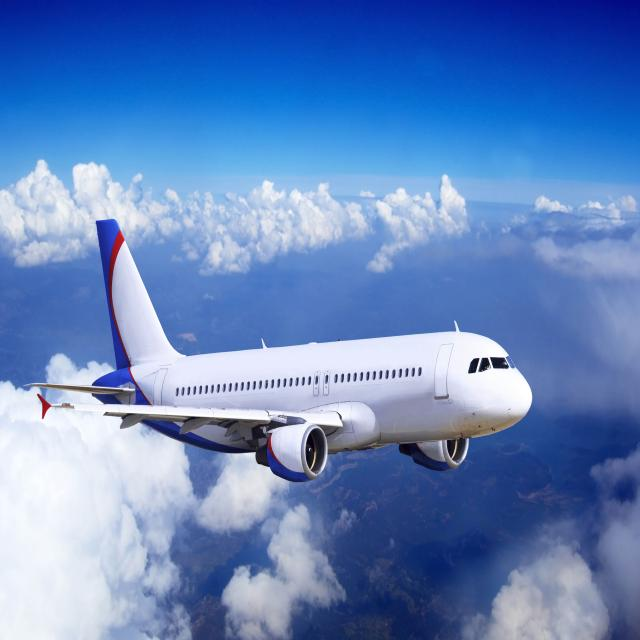plain: (64, 205, 554, 498)
